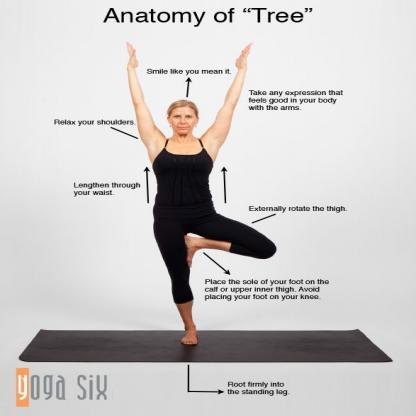tree: (106, 35, 287, 358)
